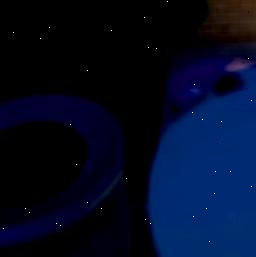algae: (146, 60, 256, 257)
